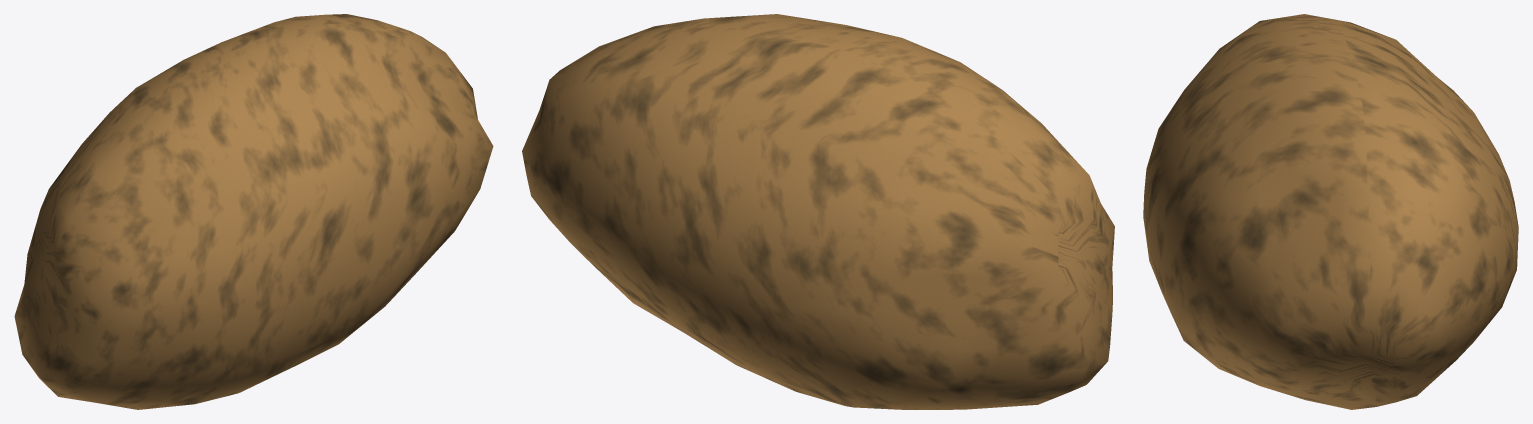
Rendered from potato.obj.
3 views of the same model, side by side, from view 1: azimuth 30°, elevation 25°; view 2: azimuth 150°, elevation 25°; view 3: azimuth 270°, elevation 25° (orthographic). The views are drawn at different scales.
Parts seen in each view (by area): view 1: potatoes_OBJ.001; view 2: potatoes_OBJ.001; view 3: potatoes_OBJ.001.
Boxes of the visible parts, left/top/right/bottom form: potatoes_OBJ.001: left=14, top=14, right=493, bottom=409; potatoes_OBJ.001: left=522, top=14, right=1114, bottom=409; potatoes_OBJ.001: left=1143, top=14, right=1518, bottom=409.
Bounding box in the file's own units: 10.29 × 6.53 × 6.28.
